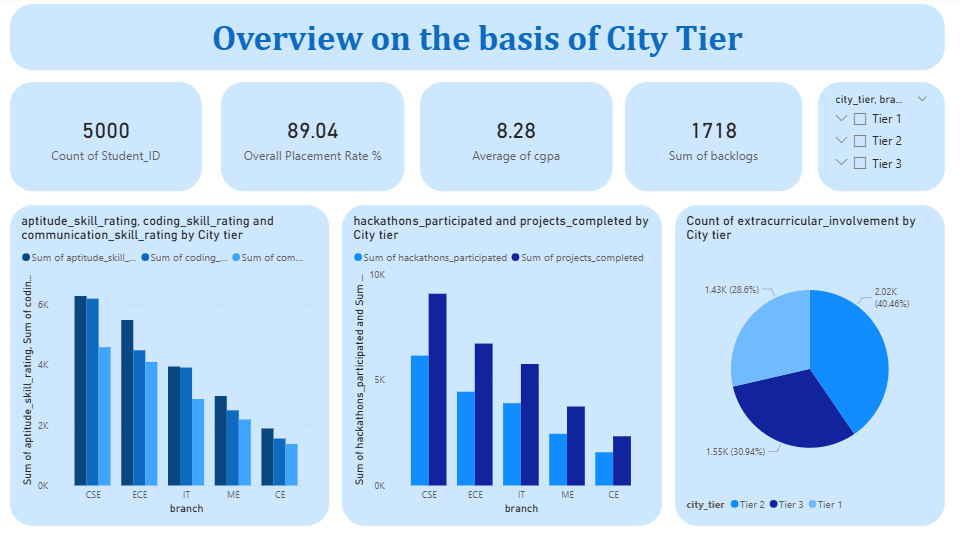

This screenshot's page, from the dashboard's own definition file:
{"tool":"powerbi","page":{"name":"City tier and Branch","canvas":[1280,720],"ordinal":1},"visuals":[{"type":"card","fields":{"Values":["CountNonNull(indian_engineering_student_plac.Student_ID)"]},"box":[27.4,110.9,250.6,142.6],"z":0},{"type":"card","fields":{"Values":["indian_engineering_student_plac.Overall Placement Rate %"]},"box":[303.8,110.9,240.5,142.6],"z":1000},{"type":"card","fields":{"Values":["Avg(indian_engineering_student_plac.cgpa)"]},"box":[564.5,110.9,252,142.6],"z":2000},{"type":"card","fields":{"Values":["Sum(indian_engineering_student_plac.backlogs)"]},"box":[832.3,110.9,231.8,142.6],"z":3000},{"type":"clusteredColumnChart","title":"aptitude_skill_rating, coding_skill_rating and communication_skill_rating by City tier","fields":{"Category":["indian_engineering_student_plac.branch"],"Y":["Sum(indian_engineering_student_plac.aptitude_skill_rating)","Sum(indian_engineering_student_plac.coding_skill_rating)","Sum(indian_engineering_student_plac.communication_skill_rating)"]},"box":[27.4,272.2,417.6,420.5],"z":4000},{"type":"slicer","fields":{"Values":["indian_engineering_student_plac.city_tier","indian_engineering_student_plac.branch"]},"box":[1085.8,110.9,165.6,142.6],"z":5000},{"type":"clusteredColumnChart","title":"hackathons_participated and projects_completed by City tier","fields":{"Category":["indian_engineering_student_plac.branch"],"Y":["Sum(indian_engineering_student_plac.hackathons_participated)","Sum(indian_engineering_student_plac.projects_completed)"]},"box":[462.2,272.2,419,420.5],"z":6000},{"type":"pieChart","title":"Count of extracurricular_involvement by City tier","fields":{"Y":["CountNonNull(indian_engineering_student_plac.extracurricular_involvement)"],"Category":["indian_engineering_student_plac.branch"]},"box":[898.6,272.2,352.8,420.5],"z":7000},{"type":"shape","box":[27.5,9.6,1223.6,86.7],"z":8000}]}

Visuals, with their boxes in screenshot pixels (x1, y1, x2, y2), scaled from the page's 1280x720 canvas onto the 960x541 screenshot:
card - CountNonNull(indian_engineering_student_plac.Student_ID): [21,83,208,190]
card - indian_engineering_student_plac.Overall Placement Rate %: [228,83,408,190]
card - Avg(indian_engineering_student_plac.cgpa): [423,83,612,190]
card - Sum(indian_engineering_student_plac.backlogs): [624,83,798,190]
"aptitude_skill_rating, coding_skill_rating and communication_skill_rating by City tier" clusteredColumnChart: [21,205,334,520]
slicer - indian_engineering_student_plac.city_tier x indian_engineering_student_plac.branch: [814,83,939,190]
"hackathons_participated and projects_completed by City tier" clusteredColumnChart: [347,205,661,520]
"Count of extracurricular_involvement by City tier" pieChart: [674,205,939,520]
shape: [21,7,938,72]
